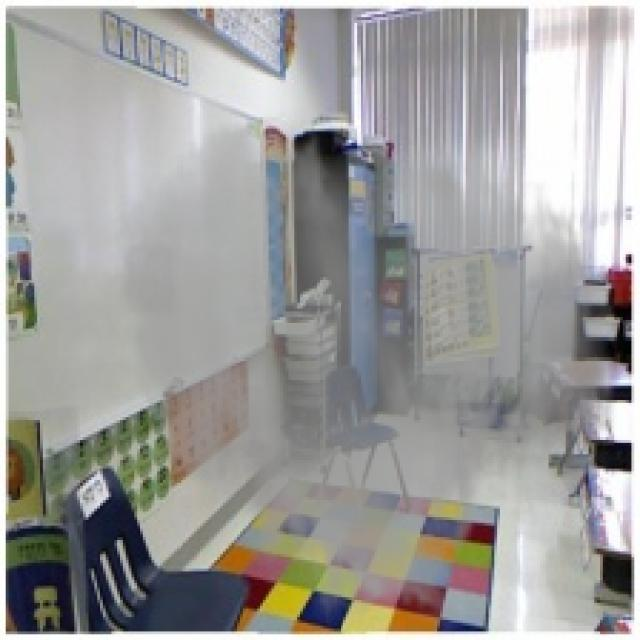smoke: (108, 112, 623, 637)
